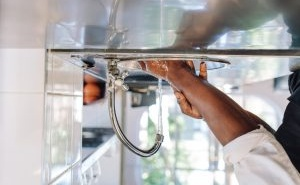washing hand: (97, 60, 243, 169)
